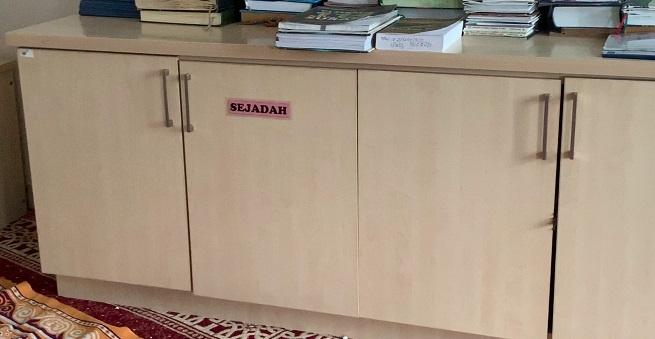cabinet_door: (362, 80, 556, 332), (189, 72, 357, 303), (36, 57, 187, 281), (556, 83, 654, 339)
handle: (564, 90, 582, 162), (159, 66, 178, 129), (536, 92, 553, 162), (181, 71, 198, 134)
